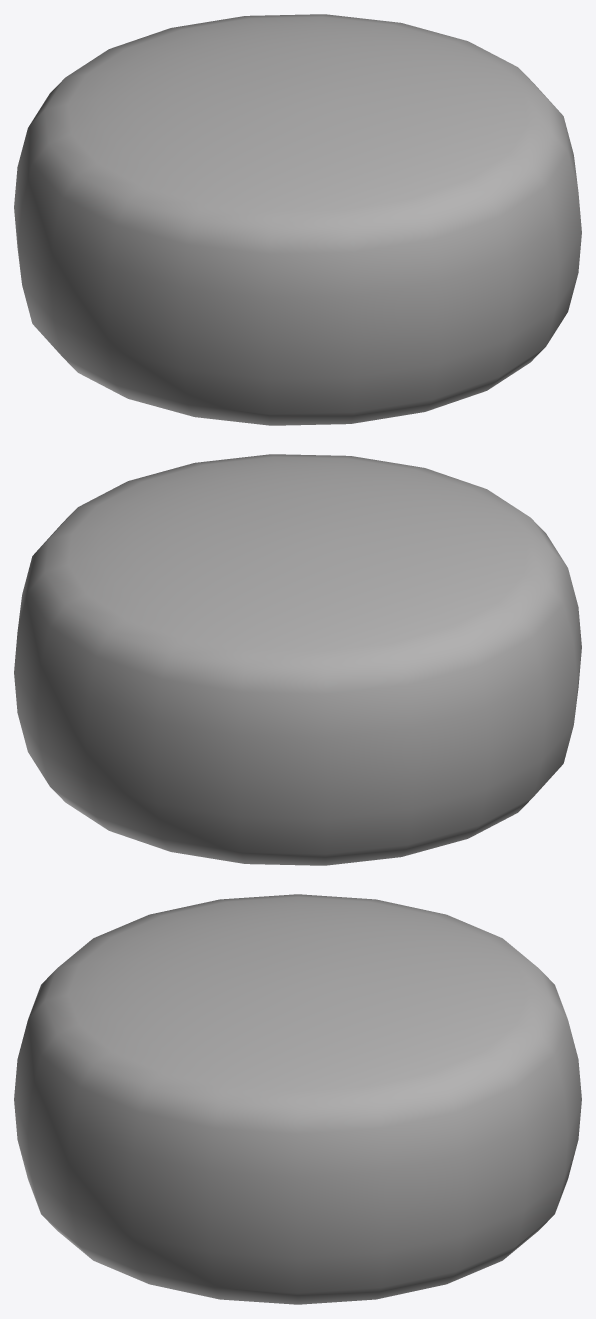
File: rula.fbx
3 views of the same model, one above another, from view 1: azimuth 30°, elevation 25°; view 2: azimuth 150°, elevation 25°; view 3: azimuth 270°, elevation 25° (orthographic).
Parts seen in each view (by area): view 1: rula; view 2: rula; view 3: rula.
Boxes of the visible parts, box(x1,y1,x2,y2) form: rula: box(14, 14, 581, 425); rula: box(14, 454, 581, 865); rula: box(14, 894, 581, 1304).
Bounding box in the file's own units: 4.12 × 2.02 × 4.12.
